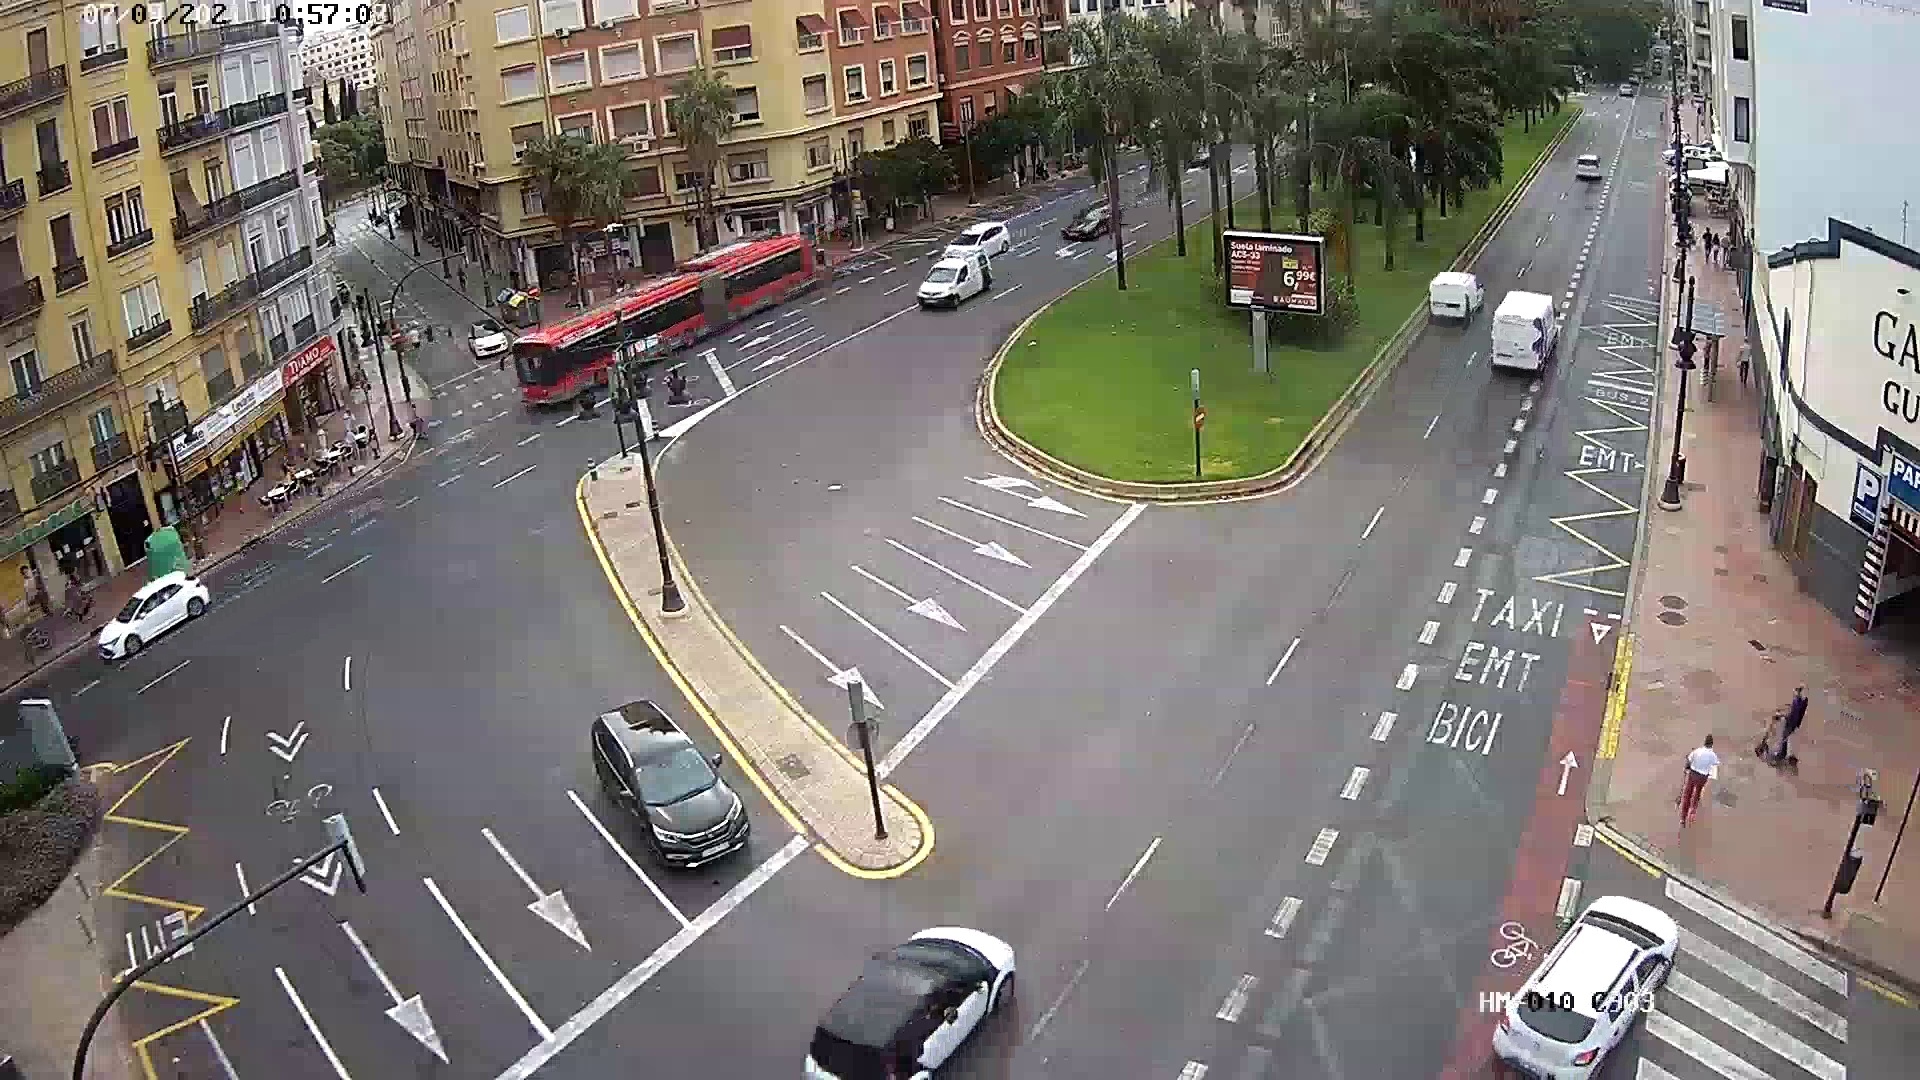Cars: (558, 688, 783, 891), (816, 914, 1025, 1080), (1484, 897, 1659, 1077), (71, 566, 222, 665), (1495, 285, 1563, 390), (916, 255, 1000, 315), (1428, 266, 1484, 332), (1576, 145, 1619, 195)
